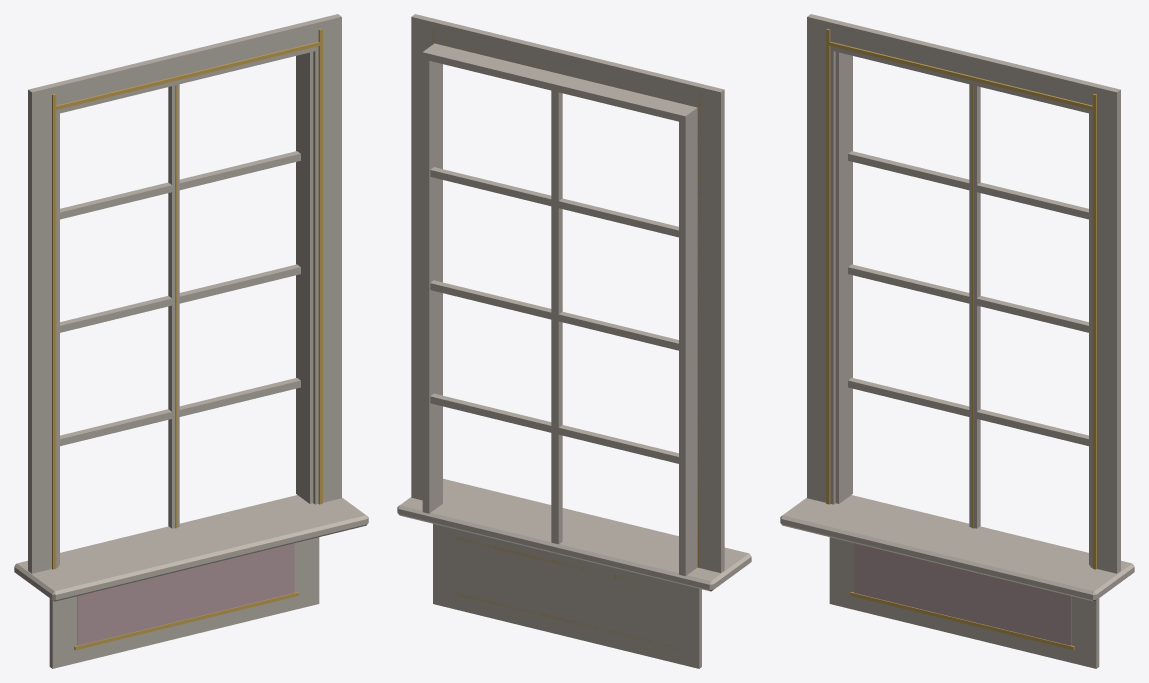
Rendered from facade_inner_reveal.glb.
3 renders of one model, left to right at view 1: azimuth 30°, elevation 25°; view 2: azimuth 150°, elevation 25°; view 3: azimuth 330°, elevation 25°, orthographic.
Visible parts, largest first — view 1: facade_inner_reveal; view 2: facade_inner_reveal; view 3: facade_inner_reveal.
Part boxes in pixels (bbox=[...]): facade_inner_reveal: bbox=[14, 14, 368, 668]; facade_inner_reveal: bbox=[397, 14, 751, 668]; facade_inner_reveal: bbox=[780, 14, 1134, 668].
Size of what is drawn, in the model's own units: 1.9 by 3.34 by 0.425.
